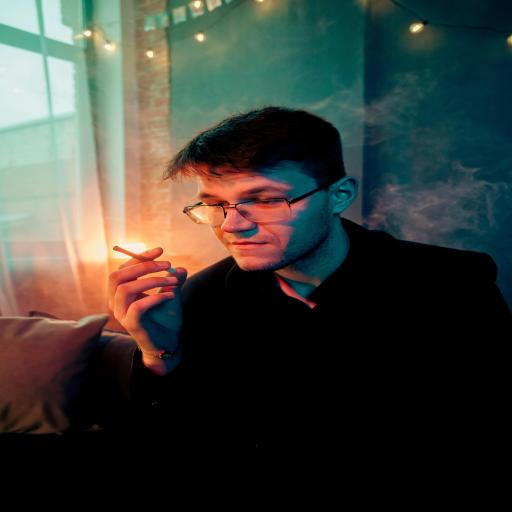terdeteksi pegang rokok: (84, 219, 200, 329)
